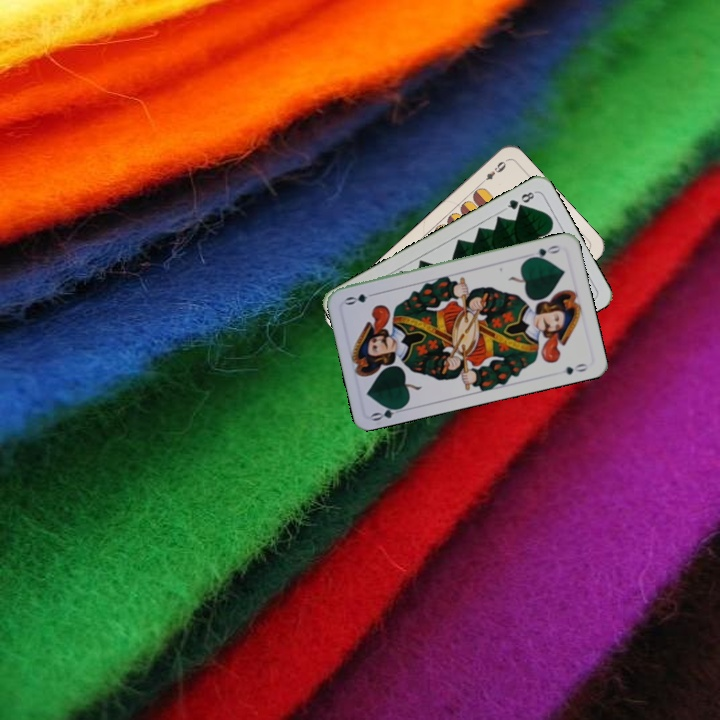E9: (476, 156, 509, 188)
G8: (501, 188, 538, 213)
GO: (368, 401, 408, 424), (525, 241, 564, 262)
